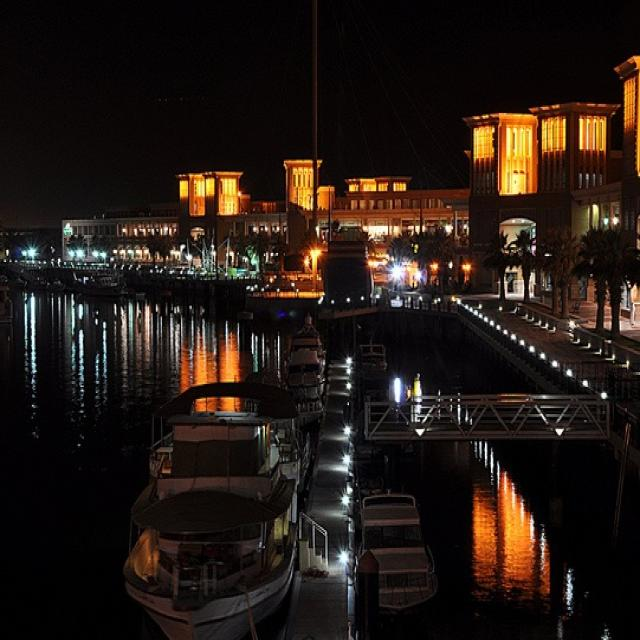Boat: (121, 357, 309, 640), (360, 478, 439, 632), (285, 314, 339, 372), (284, 345, 325, 416)
